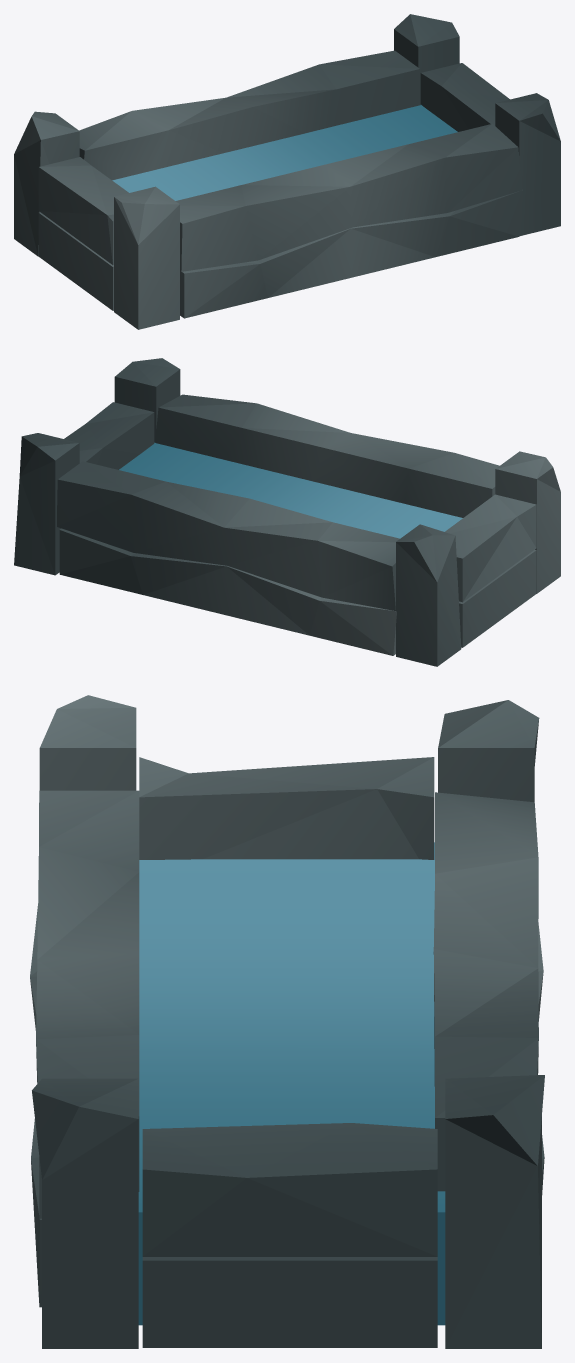
The model's file is WaterTrough.fbx.
The picture shows the model from 3 angles, top to bottom: view 1: azimuth 30°, elevation 25°; view 2: azimuth 150°, elevation 25°; view 3: azimuth 270°, elevation 25°; orthographic projection. The views are drawn at different scales.
Visible parts, largest first — view 1: WaterTrough_Stone, WaterTrough_Water; view 2: WaterTrough_Stone, WaterTrough_Water; view 3: WaterTrough_Stone, WaterTrough_Water.
Part boxes in pixels (x1=…): WaterTrough_Stone: x1=14, y1=14, x2=560, y2=329; WaterTrough_Water: x1=112, y1=105, x2=457, y2=200; WaterTrough_Stone: x1=14, y1=358, x2=560, y2=666; WaterTrough_Water: x1=119, y1=442, x2=462, y2=538; WaterTrough_Stone: x1=30, y1=695, x2=544, y2=1348; WaterTrough_Water: x1=138, y1=842, x2=445, y2=1325.
Bounding box in the file's own units: 2.7 × 0.7502 × 1.4.
1 material, 1 textured.
